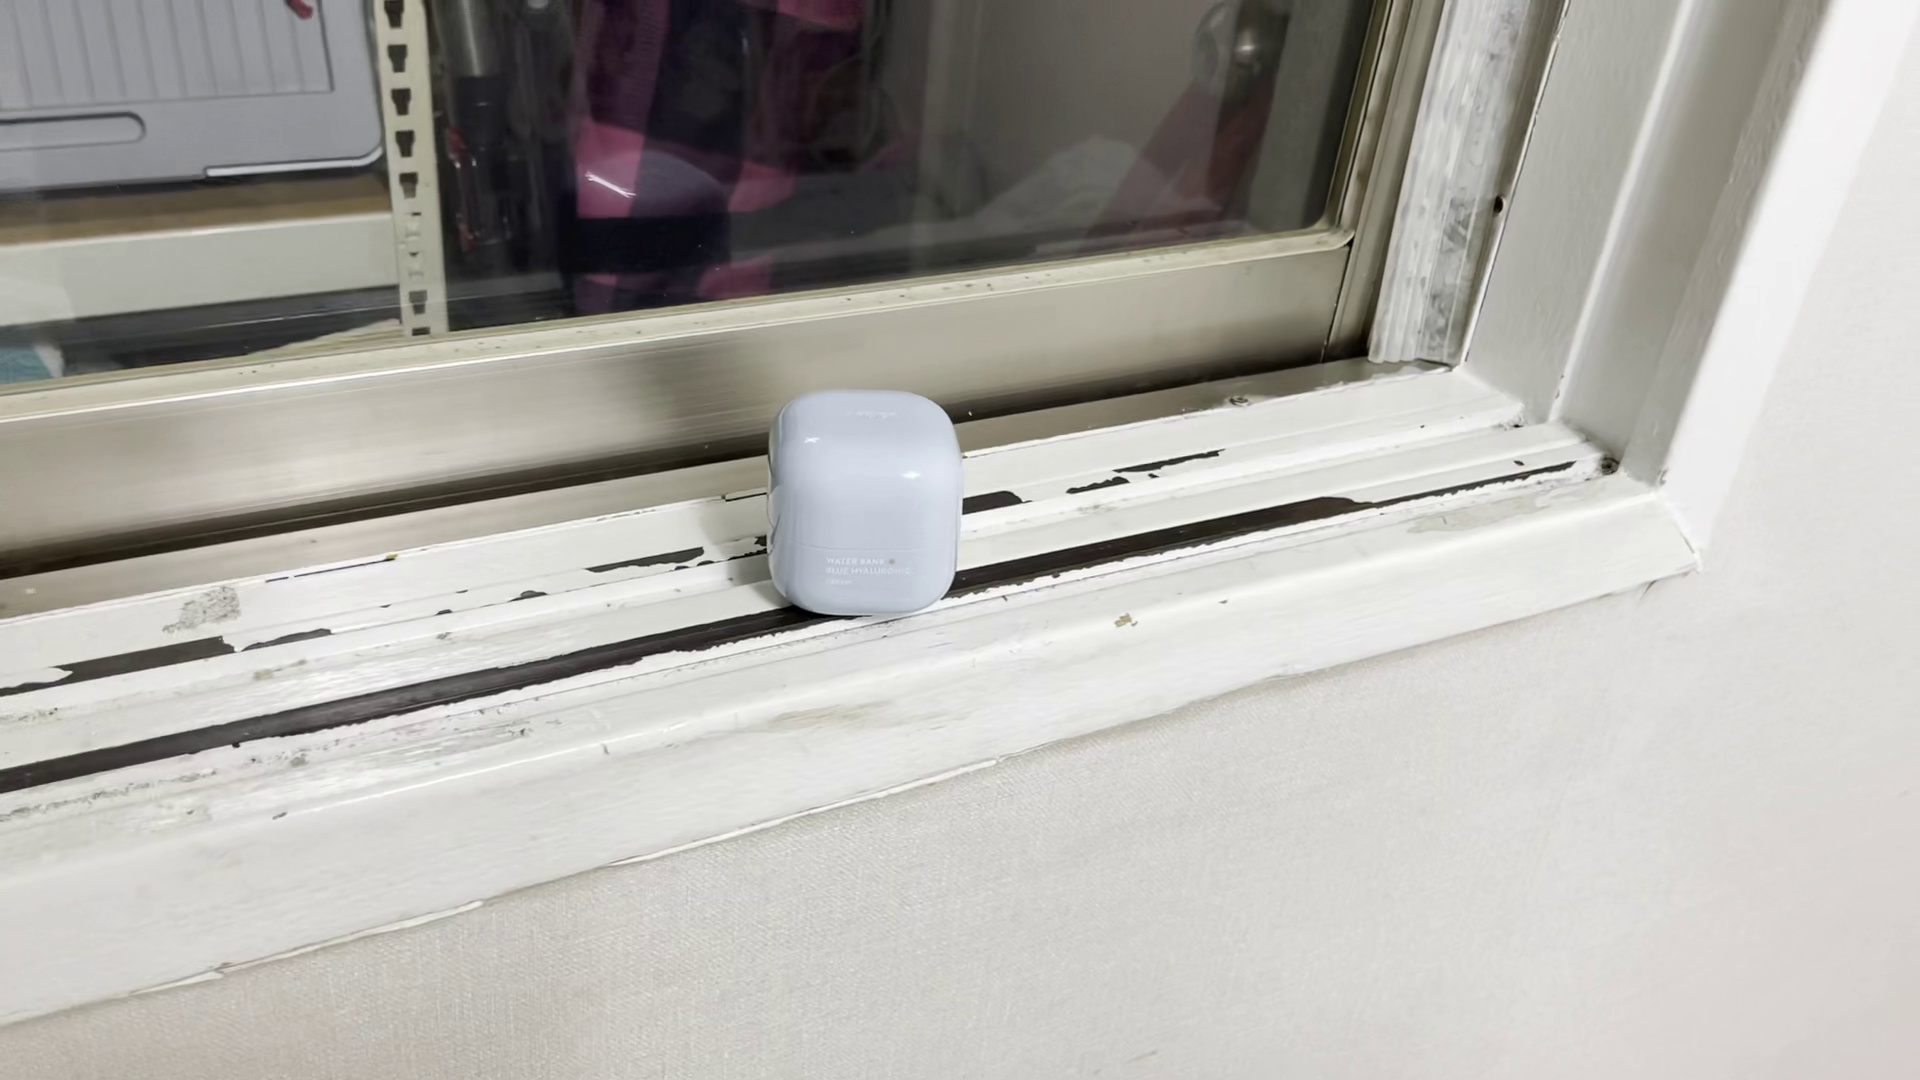cream: (764, 392, 961, 617)
